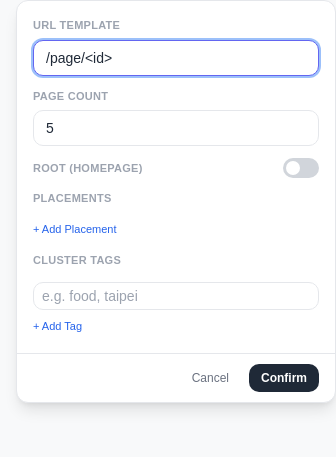
Test: EditPopover › clicking "+ Add Tag" button adds typed tag as a chip
The width and height of the screenshot is (336, 457).
Type "food" into the field with test id "cluster-tag-input" at (176,296), box [33,282,319,310]
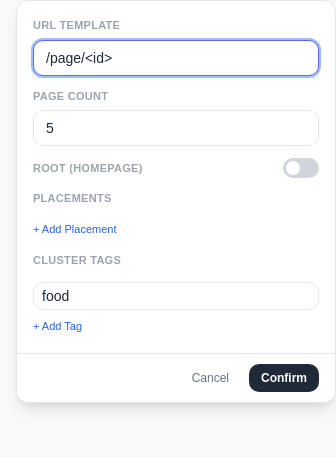
Click the button "+ Add Tag" at (58,326), box [33,318,82,334]
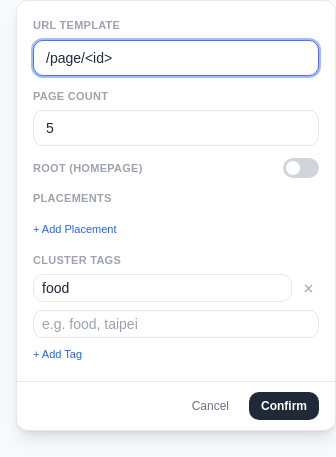
Check: the field showing "food" below "Cluster Tags" is shown, box [33,274,292,302]
